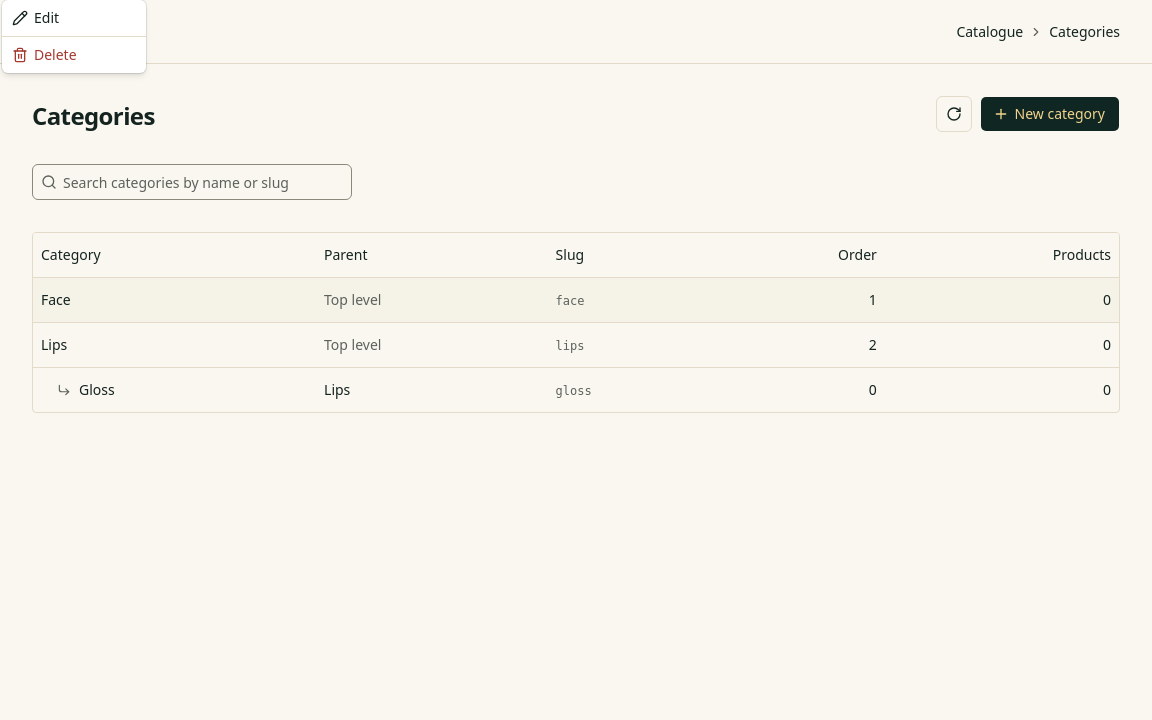
Test: categories › offers only other top-level categories as a parent
Click the menu item "Edit" at (36, 18), box [12,8,59,27]
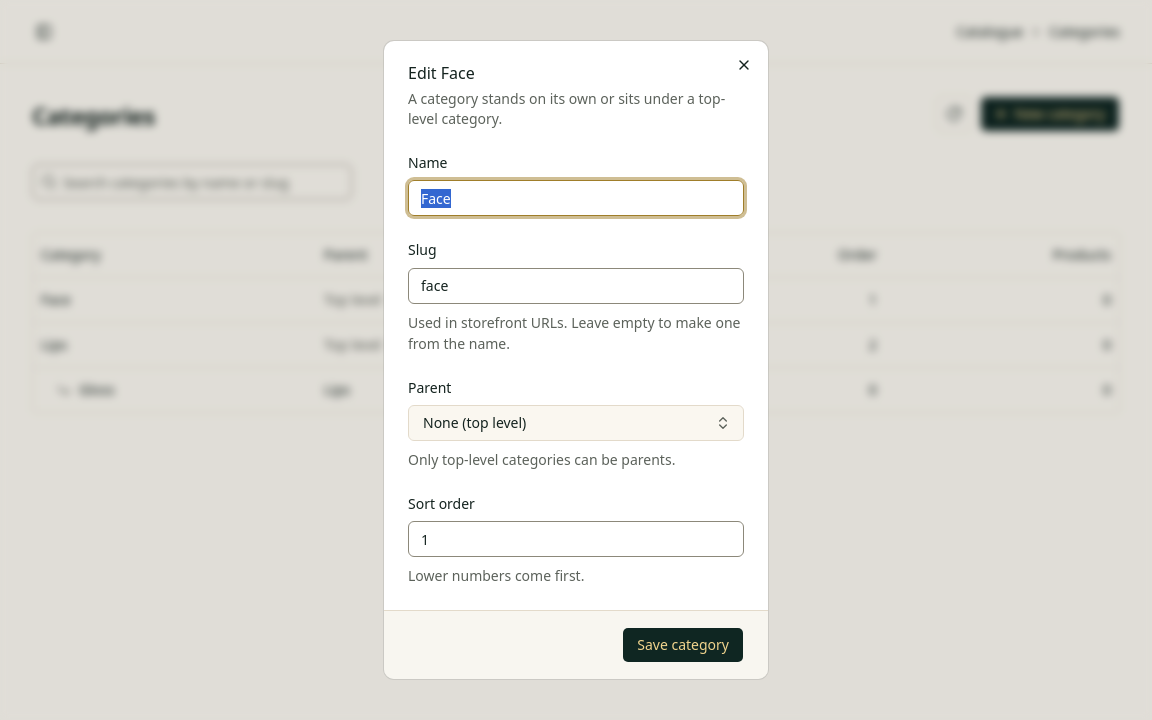
Click the dropdown named "Parent" at (475, 422), box [408,405,744,441]
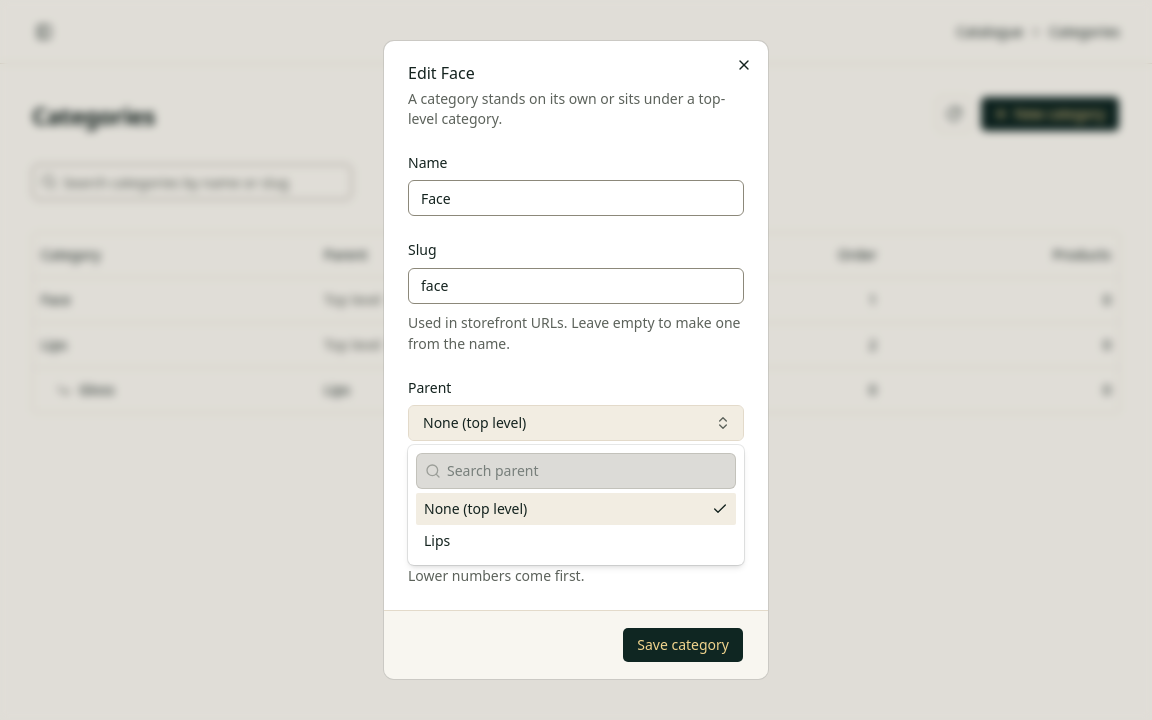
Now the options read "None (top level)", "Lips", in this order, box [416,493,736,525]; [424,531,450,550]
